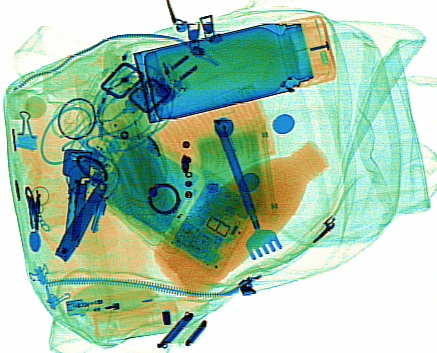lighter: (62, 286, 157, 316)
